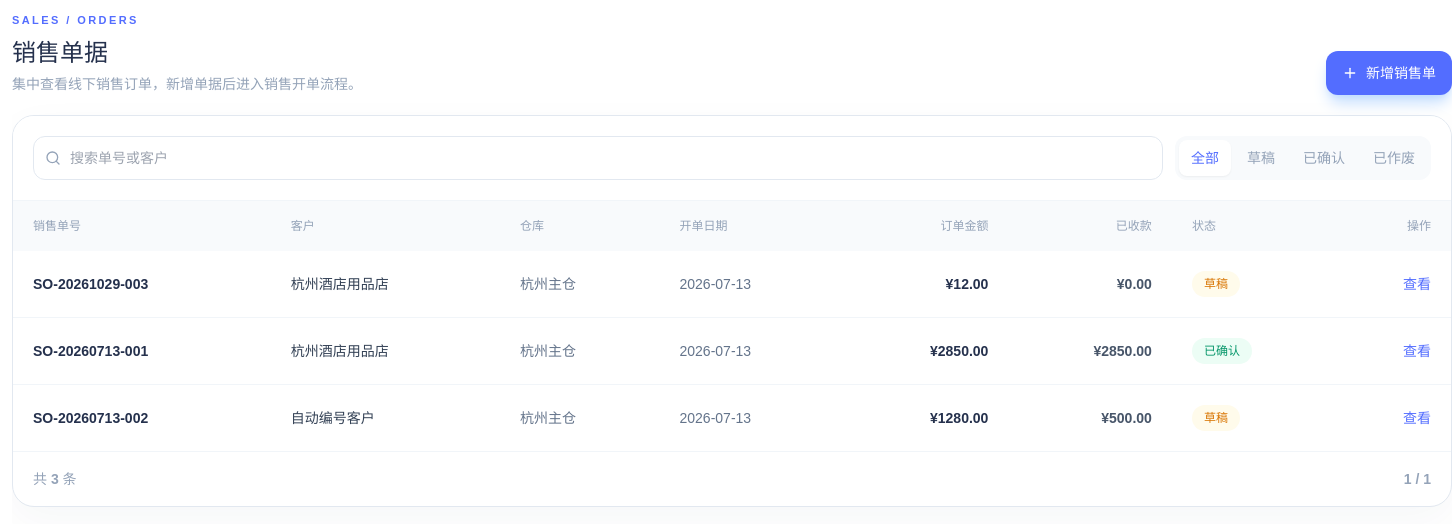
Test: SalesOrdersView › shows a saved draft in the draft tab and filters other statuses out
Click the tab with test id "sales-status-tab-draft" at (1261, 158), box [1235, 140, 1287, 176]
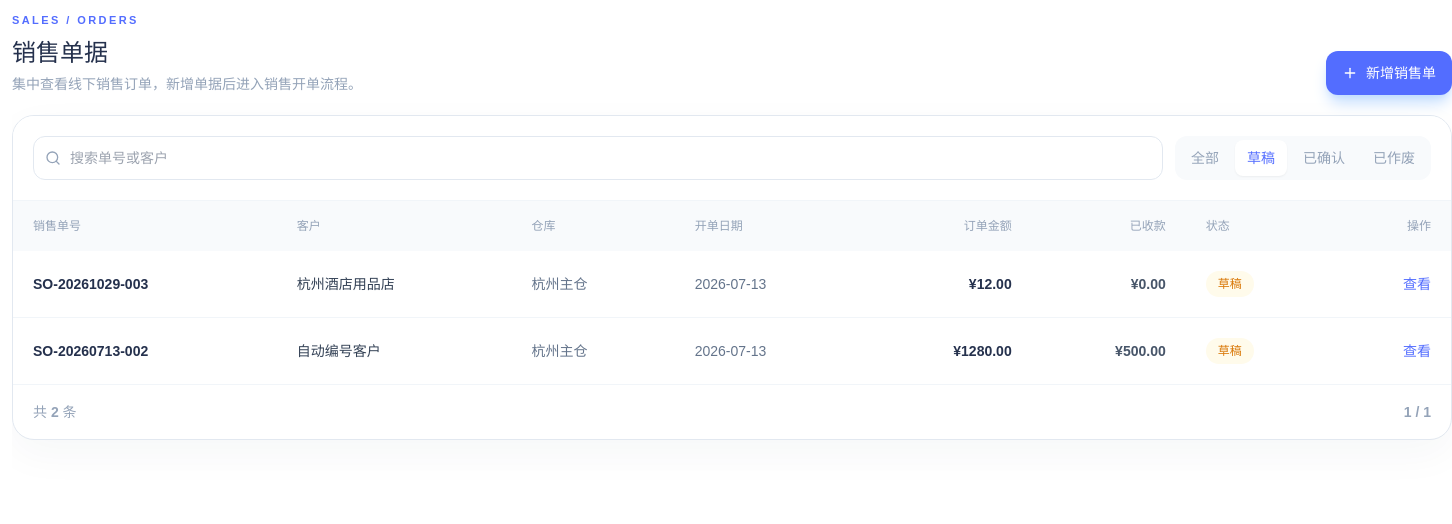
Expected: the table with test id "sales-orders-table" shows "草稿", [1218, 276, 1242, 290]
Result: the cell with test id "sales-orders-table" no longer shows "SO-20260713-001"
Result: the text with test id "sales-orders-footer-count" reads "共 2 条" at [33, 404, 77, 420]
